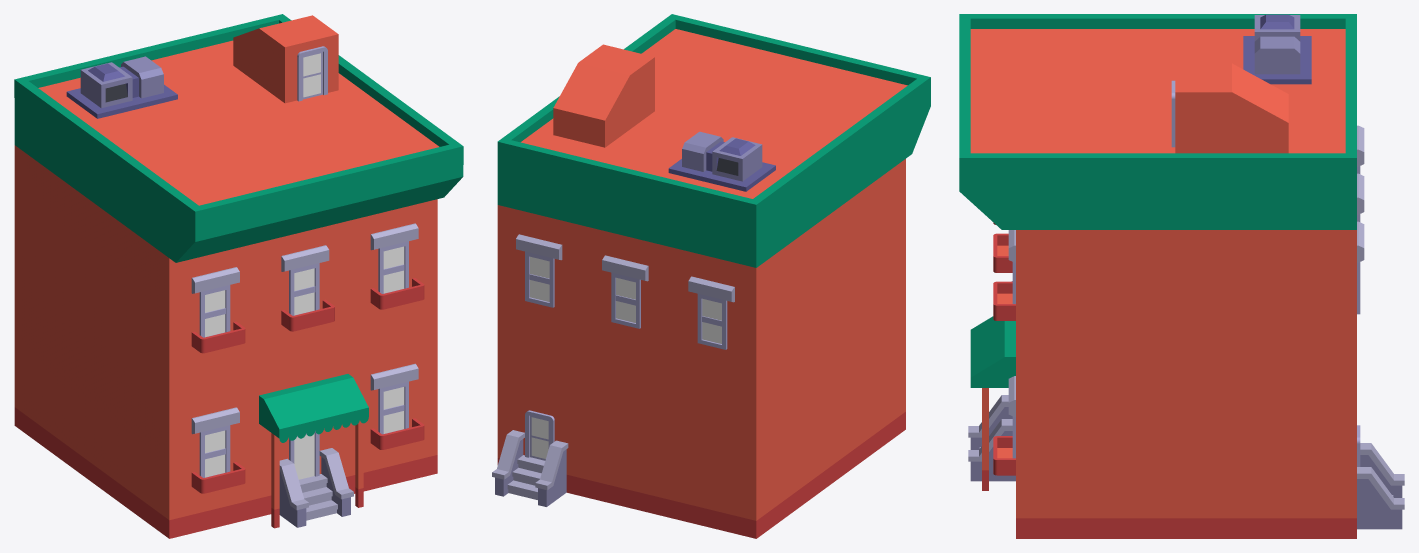
Rendered from Building_08.fbx.
The picture shows the model from 3 angles, left to right: view 1: azimuth 30°, elevation 25°; view 2: azimuth 150°, elevation 25°; view 3: azimuth 270°, elevation 25°; orthographic projection. The views are drawn at different scales.
Visible parts, largest first — view 1: mergedBlocks; view 2: mergedBlocks; view 3: mergedBlocks.
Boxes of the visible parts, box(x1,y1,x2,y2) form: mergedBlocks: box(14, 14, 463, 538); mergedBlocks: box(492, 14, 930, 538); mergedBlocks: box(959, 14, 1404, 538).
Bounding box in the file's own units: 150 × 210 × 196.
